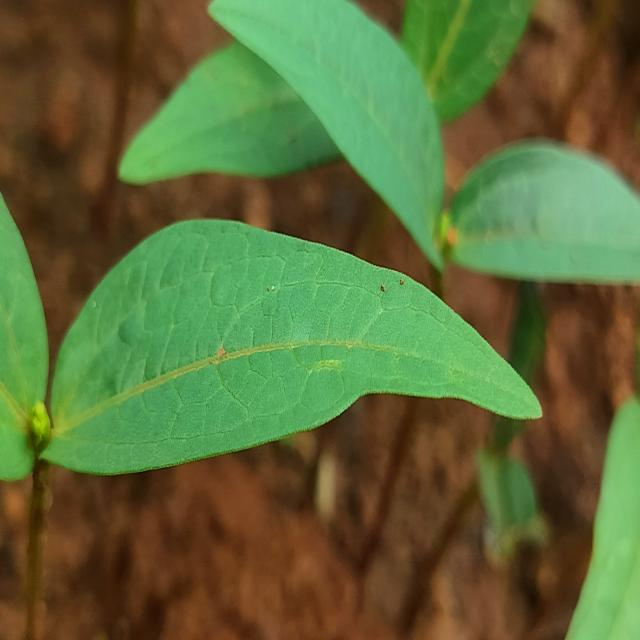Black gram_healthy: (47, 217, 543, 483), (207, 0, 450, 271), (121, 32, 417, 181), (437, 142, 640, 281)
